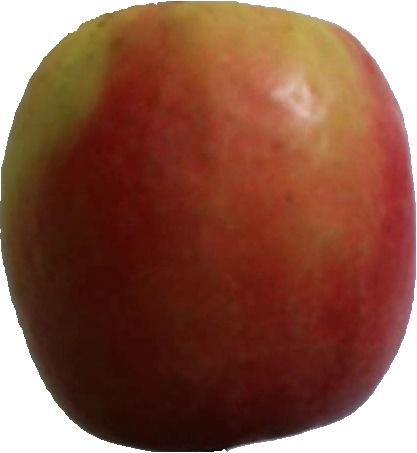Apple Ripe: (2, 2, 415, 450)
